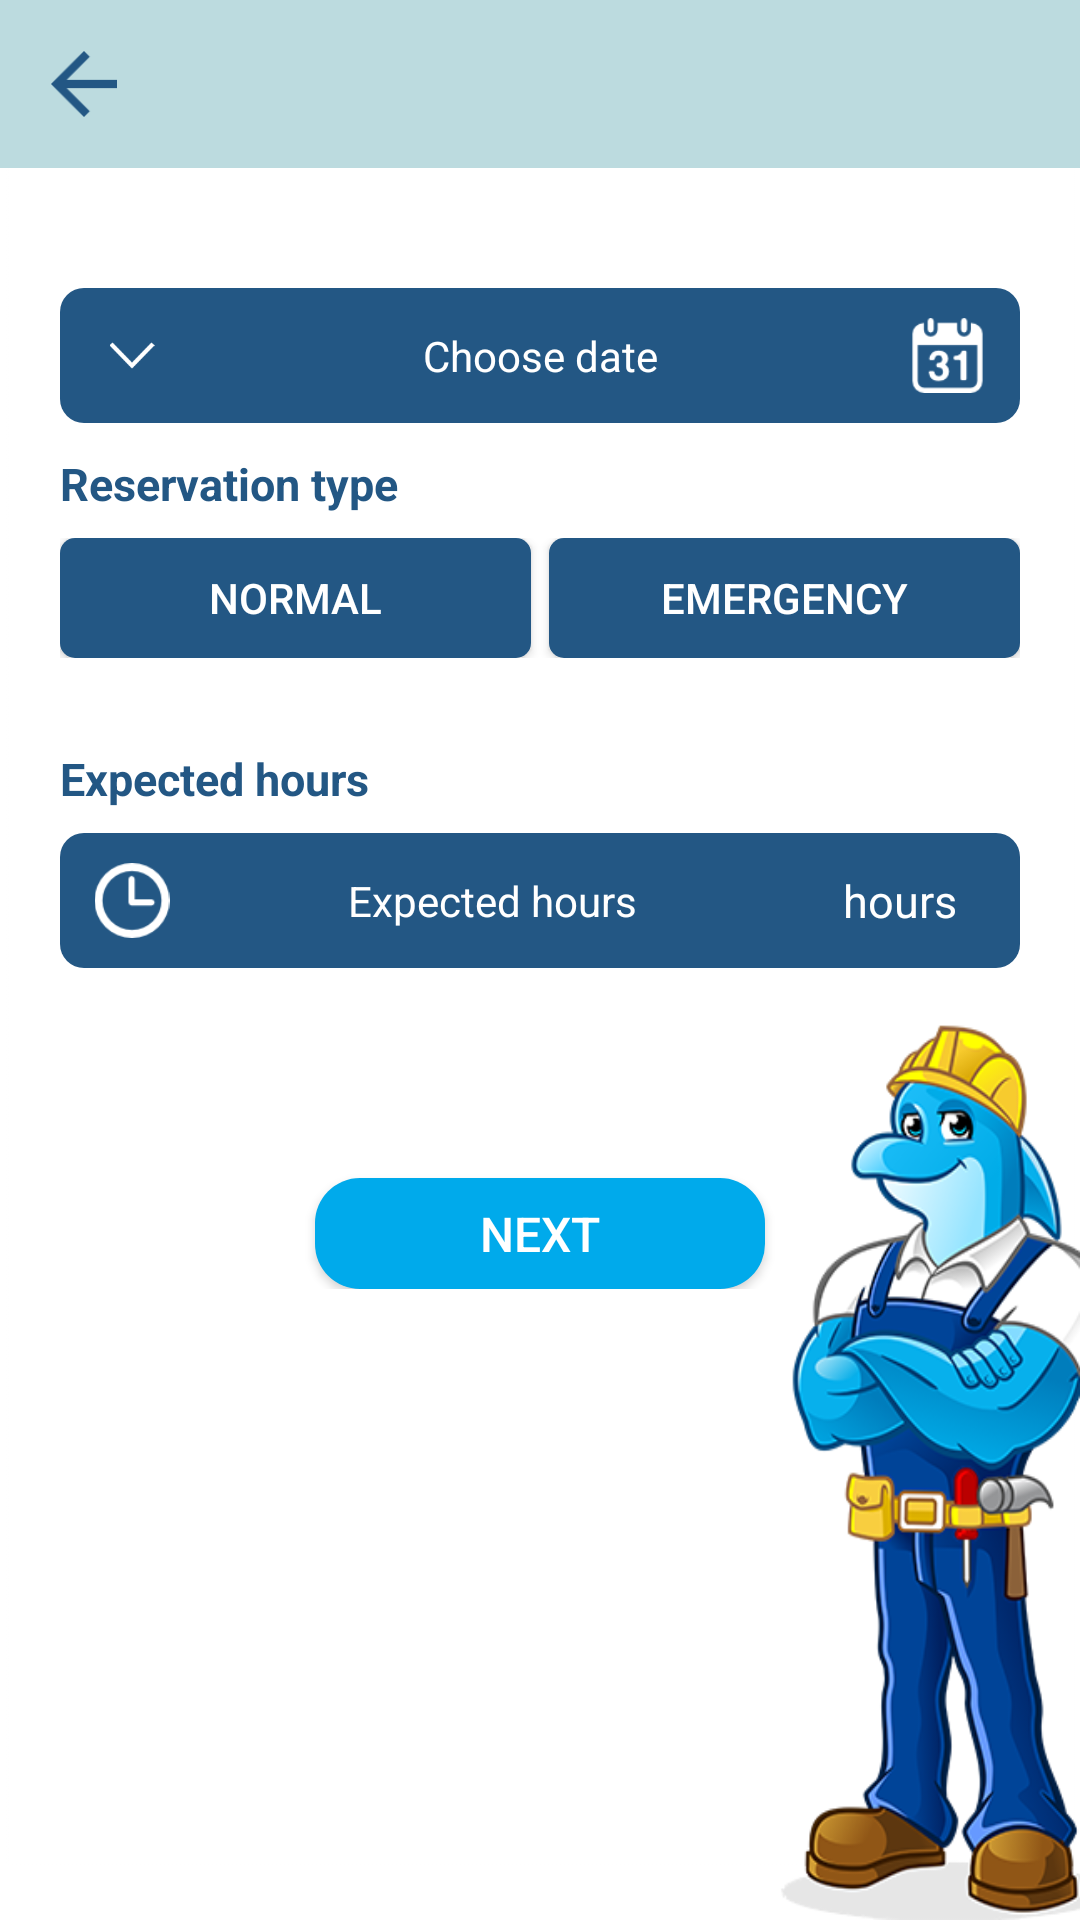

Screen size 1080*1920. Icon name, then its box in pixels as (x1, y1, x2, y2):
back arrow: (51, 51, 117, 117)
calender: (876, 288, 1019, 423)
clock: (60, 833, 204, 968)
down arrow: (60, 288, 204, 423)
